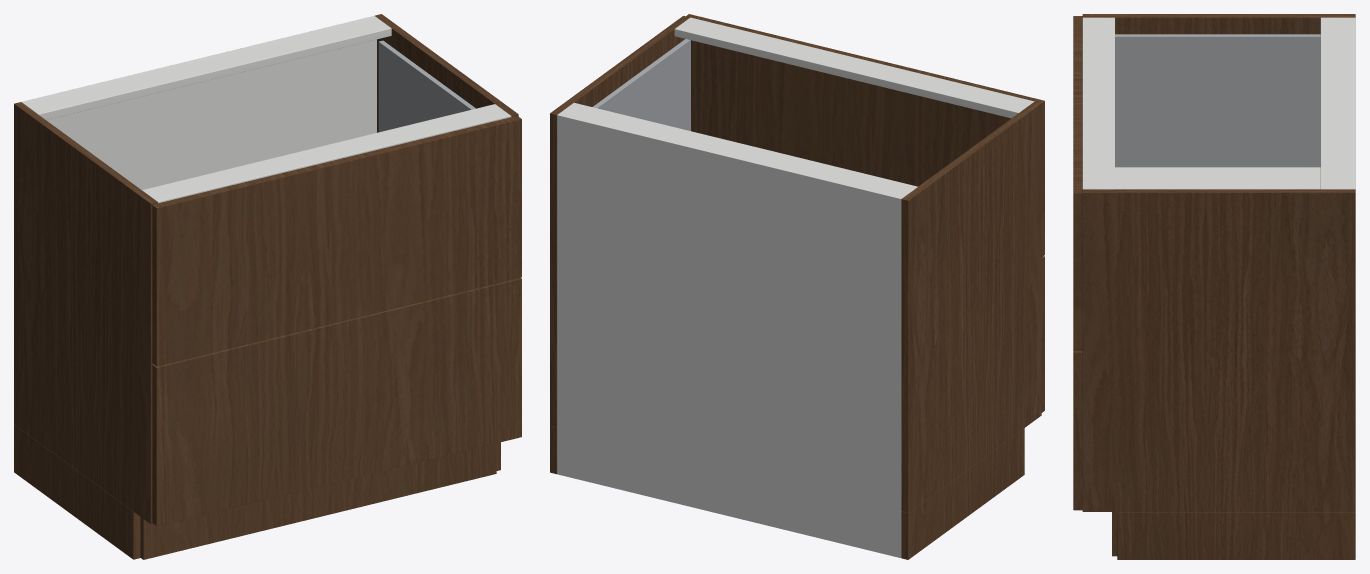
File: bvc-3868.glb
3 renders of one model, left to right at view 1: azimuth 30°, elevation 25°; view 2: azimuth 150°, elevation 25°; view 3: azimuth 270°, elevation 25°, orthographic. The views are drawn at different scales.
Parts seen in each view (by area): view 1: Drawer front.001, Drawer front, Cabinet side, Cabinet back, Recessed toe board, Top support rail, Top support rail.001, Recessed side plinth, Drawer side.003, Cabinet side.001; view 2: Cabinet back, Cabinet side, Drawer front.001, Top support rail.001, Recessed side plinth, Top support rail, Cabinet side.001, Drawer side.003, Cabinet bottom, Drawer front; view 3: Cabinet side.001, Drawer side.002, Recessed side plinth.001, Top support rail.001, Top support rail, Drawer floor.001, Cabinet side, Drawer front.001, Drawer front, Cabinet back.
Part boxes in pixels (box(x1,y1,x2,y2)): Drawer front.001: box(152, 115, 521, 366); Drawer front: box(152, 278, 521, 525); Cabinet side: box(14, 102, 157, 524); Cabinet back: box(21, 15, 376, 189); Recessed toe board: box(140, 443, 496, 559); Top support rail: box(24, 17, 391, 119); Top support rail.001: box(142, 104, 511, 203); Recessed side plinth: box(14, 424, 140, 559); Drawer side.003: box(378, 40, 475, 132); Cabinet side.001: box(375, 14, 518, 132); Cabinet back: box(557, 113, 903, 557); Cabinet side: box(901, 101, 1041, 512); Drawer front.001: box(686, 14, 1044, 256); Top support rail.001: box(674, 17, 1034, 118); Recessed side plinth: box(901, 428, 1024, 559); Top support rail: box(560, 103, 917, 197); Cabinet side.001: box(550, 16, 689, 427); Drawer side.003: box(592, 39, 690, 130); Cabinet bottom: box(557, 425, 901, 509); Drawer front: box(1041, 256, 1044, 412); Cabinet side.001: box(1082, 189, 1355, 511); Drawer side.002: box(1115, 34, 1320, 167); Recessed side plinth.001: box(1117, 512, 1355, 559); Top support rail.001: box(1082, 17, 1114, 189); Top support rail: box(1320, 17, 1352, 189); Drawer floor.001: box(1115, 167, 1320, 189); Cabinet side: box(1082, 14, 1355, 34); Drawer front.001: box(1073, 16, 1082, 350); Drawer front: box(1073, 351, 1082, 510); Cabinet back: box(1350, 17, 1355, 189).
Size of the model in its own units: 0.9144 by 0.8763 by 0.6096.
Materials: 3 (1 with a texture image).
